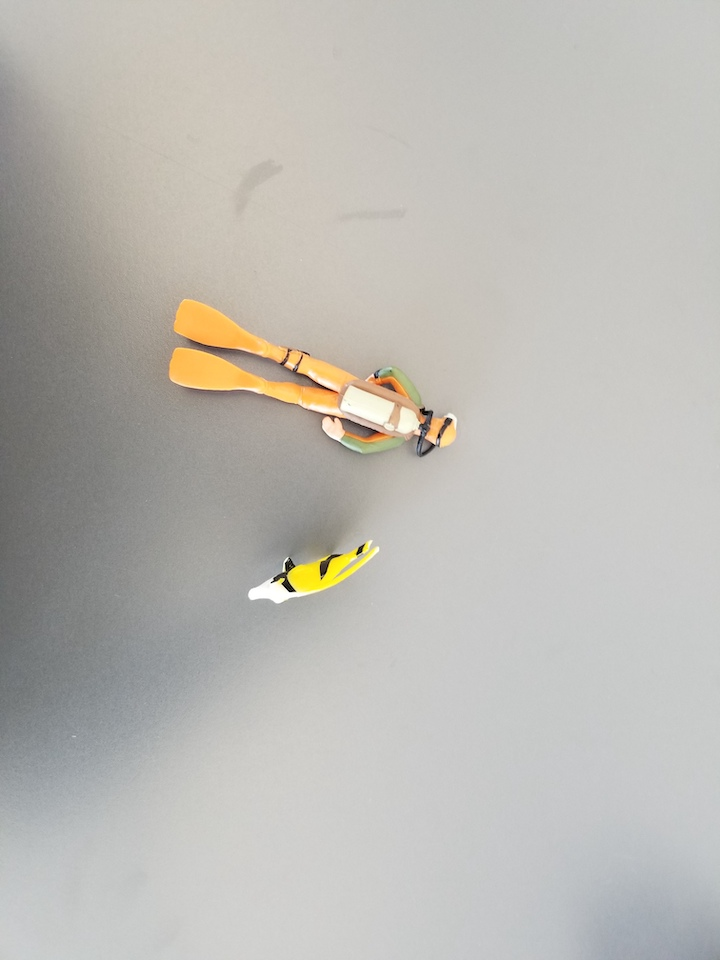danger: (246, 541, 386, 603)
diver: (167, 299, 461, 461)
